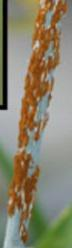Wheat: (7, 110, 42, 235), (22, 2, 62, 106)
